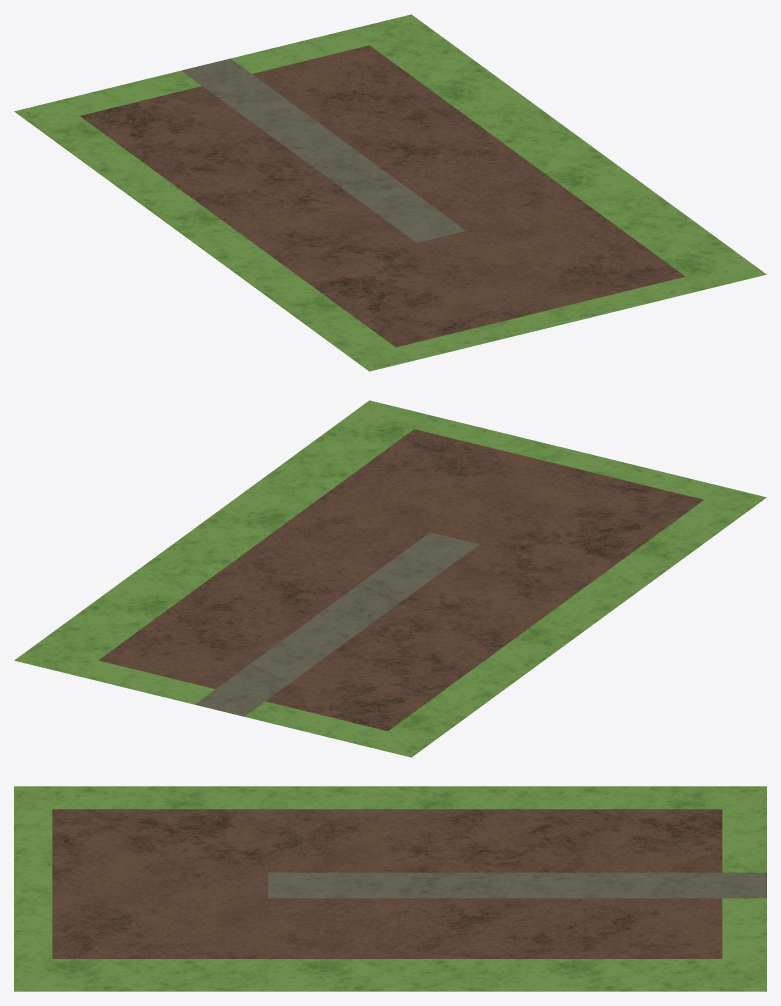
3 views of the same model, one above another, from view 1: azimuth 30°, elevation 25°; view 2: azimuth 150°, elevation 25°; view 3: azimuth 270°, elevation 25° (orthographic). The views are drawn at different scales.
Parts seen in each view (by area): view 1: Plane; view 2: Plane; view 3: Plane.
Part boxes in pixels (bbox=[...]): Plane: bbox=[14, 14, 766, 371]; Plane: bbox=[14, 400, 766, 757]; Plane: bbox=[14, 786, 766, 991].
Bounding box in the file's own units: 5166 × 0.0013 × 8003.
Materials: 3 (3 with a texture image).
